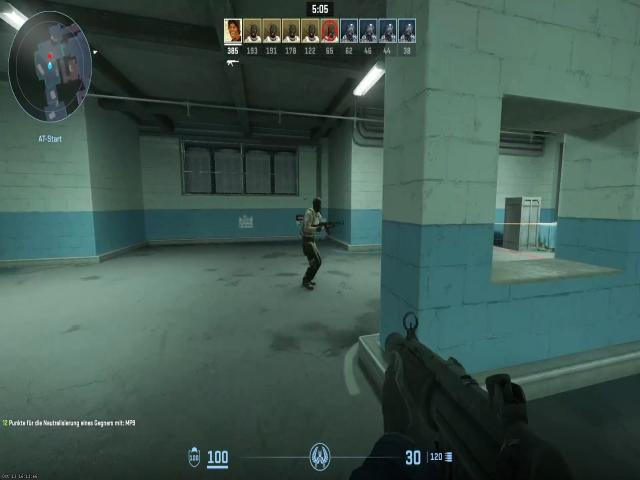T: (295, 200, 324, 239)
T-Head: (311, 196, 321, 214)
